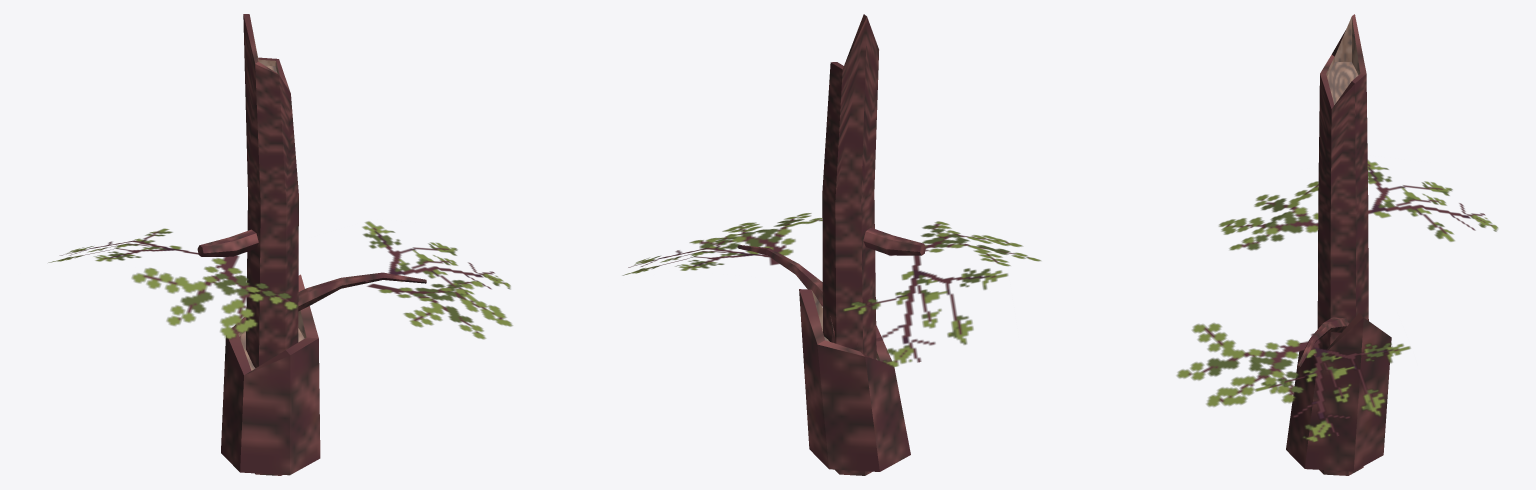
Rendered from trunk_01.glb.
3 renders of one model, left to right at view 1: azimuth 30°, elevation 25°; view 2: azimuth 150°, elevation 25°; view 3: azimuth 270°, elevation 25°, orthographic. The views are drawn at different scales.
Visible parts, largest first — view 1: trunk_01, trunk_04; view 2: trunk_01, trunk_04; view 3: trunk_01, trunk_04.
Boxes of the visible parts, bbox=[...] form: trunk_01: bbox=[48, 14, 512, 368]; trunk_04: bbox=[221, 274, 320, 475]; trunk_01: bbox=[622, 14, 1040, 367]; trunk_04: bbox=[799, 289, 910, 471]; trunk_01: bbox=[1176, 14, 1498, 442]; trunk_04: bbox=[1286, 313, 1391, 471].
Bounding box in the file's own units: 19.31 × 18.81 × 15.54.
Materials: 4 (4 with a texture image).
